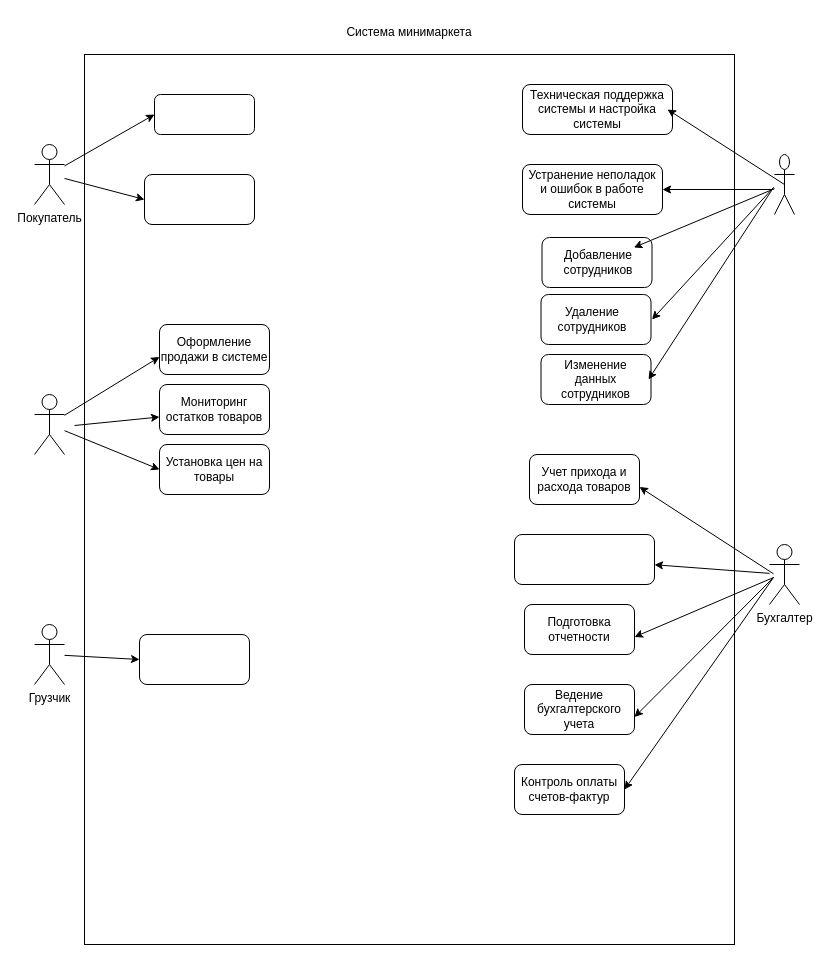
Some shapes in this 829 by 962 pixel diagram are drawn without their labels. Each missing label, with the centre of its shape:
Админ: [784,184]
Заносить количество товаров в систему: [194,659]
Оплатить товар: [204,114]
Оформление приходо-расходных документов: [584,559]
Оценить качество обслуживание и товар: [199,199]
Продавец: [49,424]
